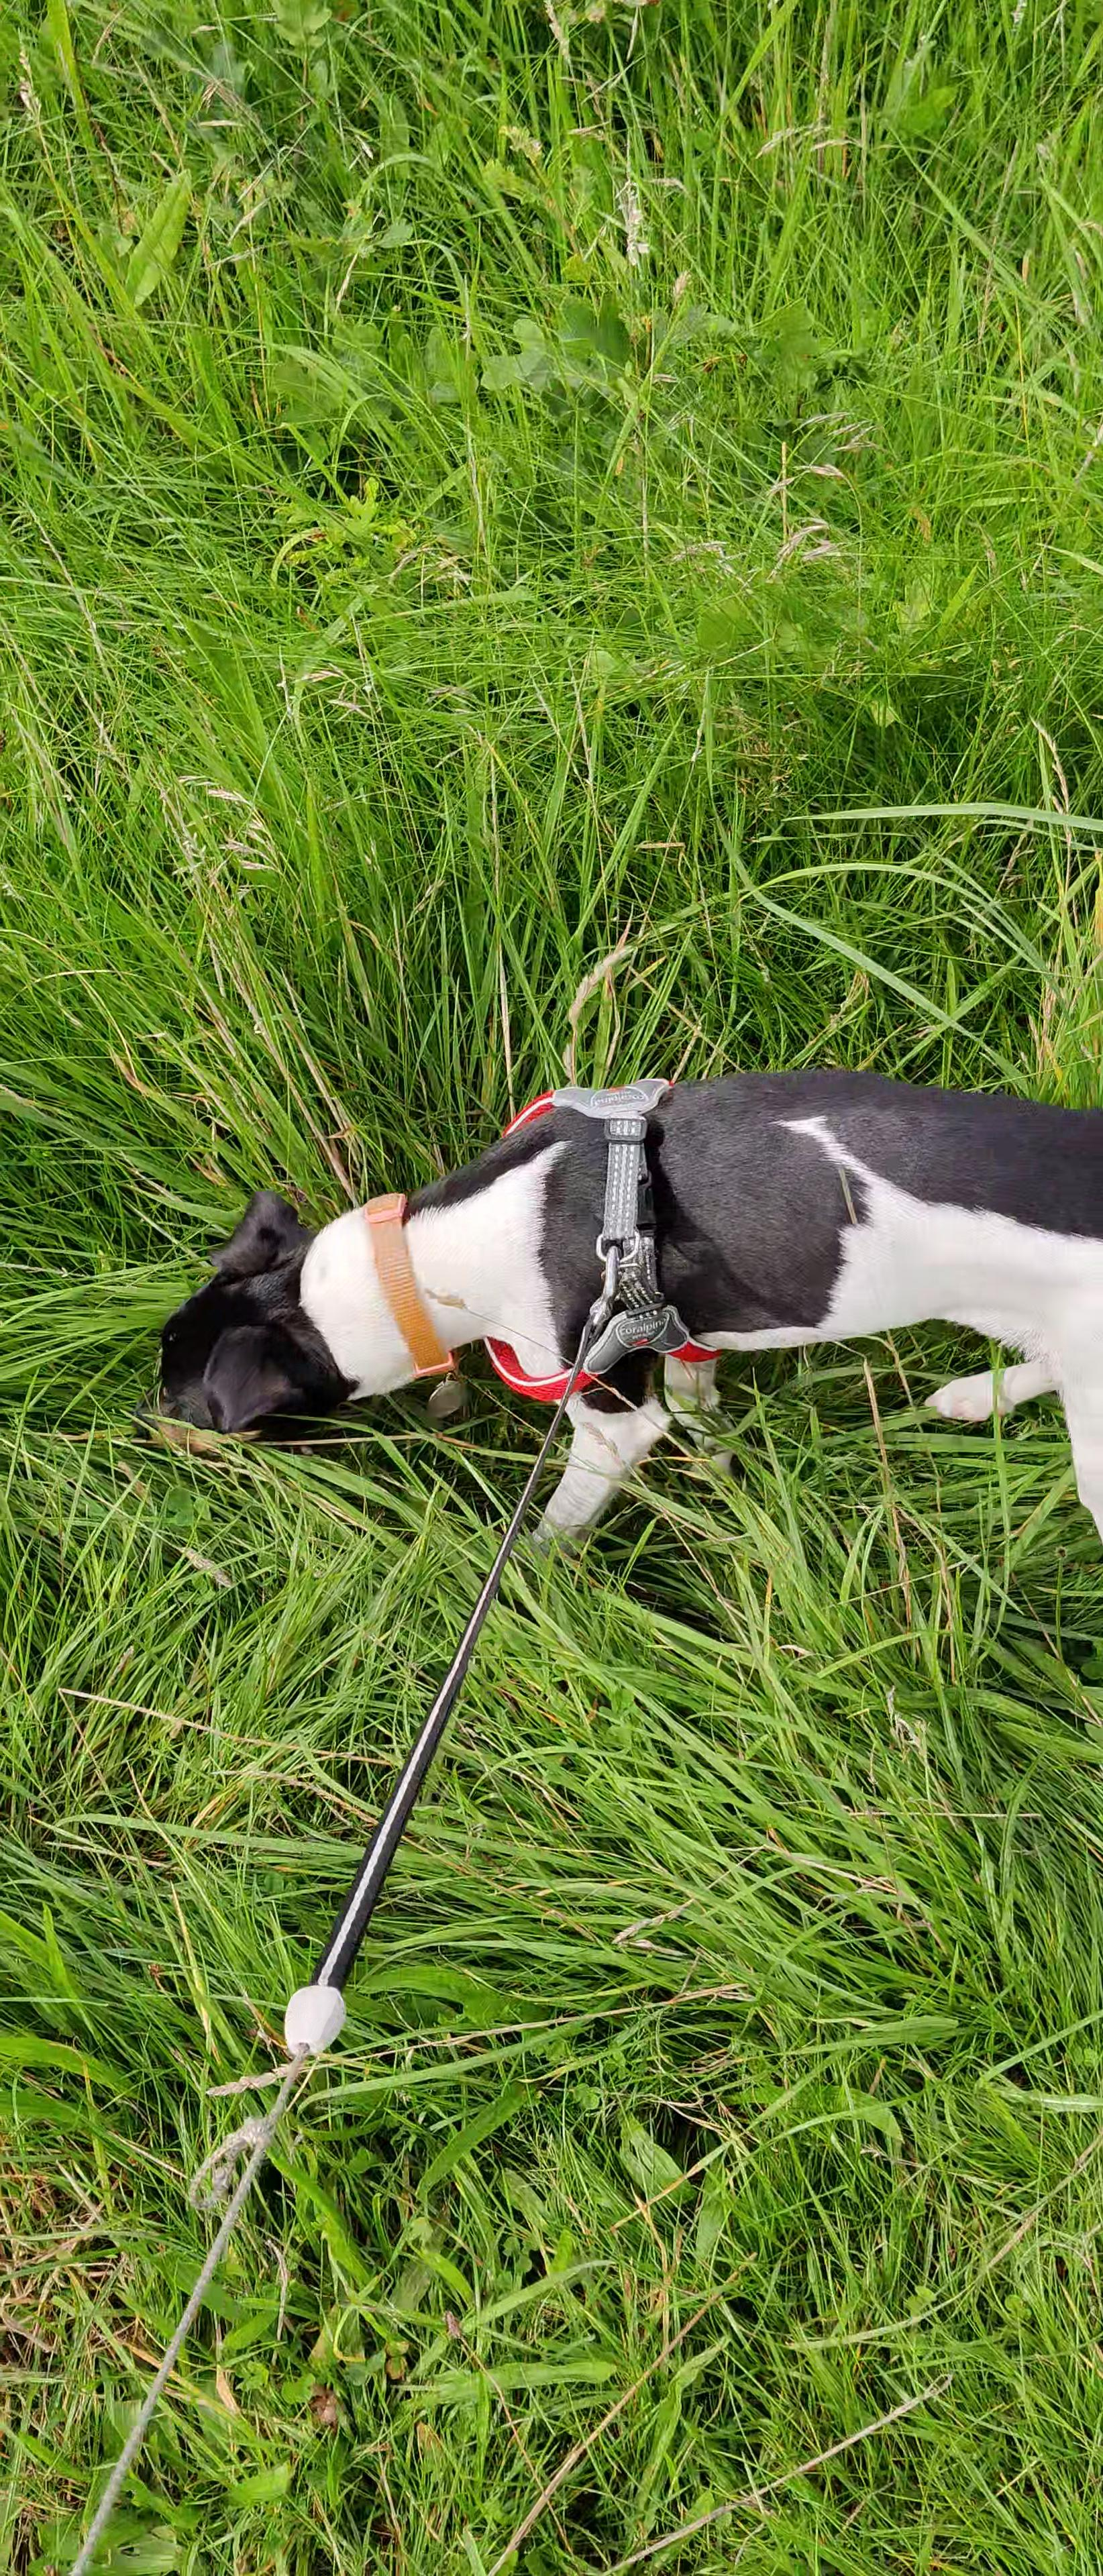Dog: (115, 1045, 1103, 1584)
